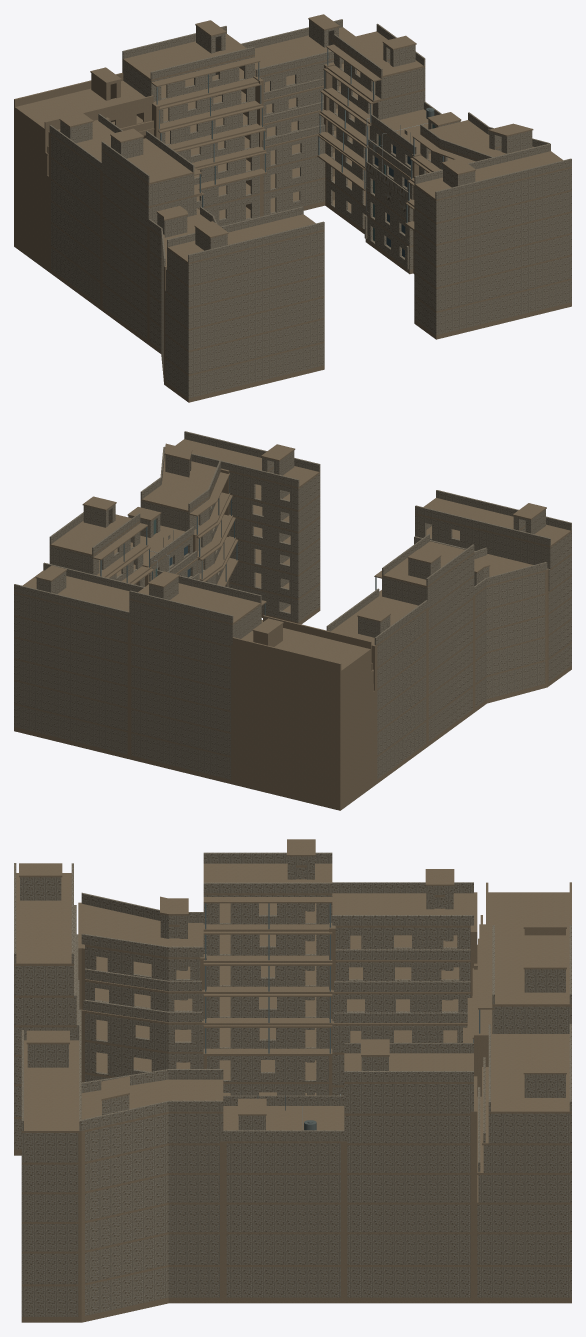
Rendered from house-context.glb.
3 renders of one model, top to bottom at view 1: azimuth 30°, elevation 25°; view 2: azimuth 150°, elevation 25°; view 3: azimuth 270°, elevation 25°, orthographic. The views are drawn at different scales.
Visible parts, largest first — view 1: REV15F / continuous house shell / flush R2 Team facade.001; view 2: REV15F / continuous house shell / flush R2 Team facade.001; view 3: REV15F / continuous house shell / flush R2 Team facade.001.
Boxes of the visible parts, bbox=[...] form: REV15F / continuous house shell / flush R2 Team facade.001: bbox=[14, 14, 571, 402]; REV15F / continuous house shell / flush R2 Team facade.001: bbox=[14, 431, 571, 810]; REV15F / continuous house shell / flush R2 Team facade.001: bbox=[14, 839, 571, 1322].
Bounding box in the file's own units: 56 × 24.98 × 51.2.
Materials: 11 (6 with a texture image).
